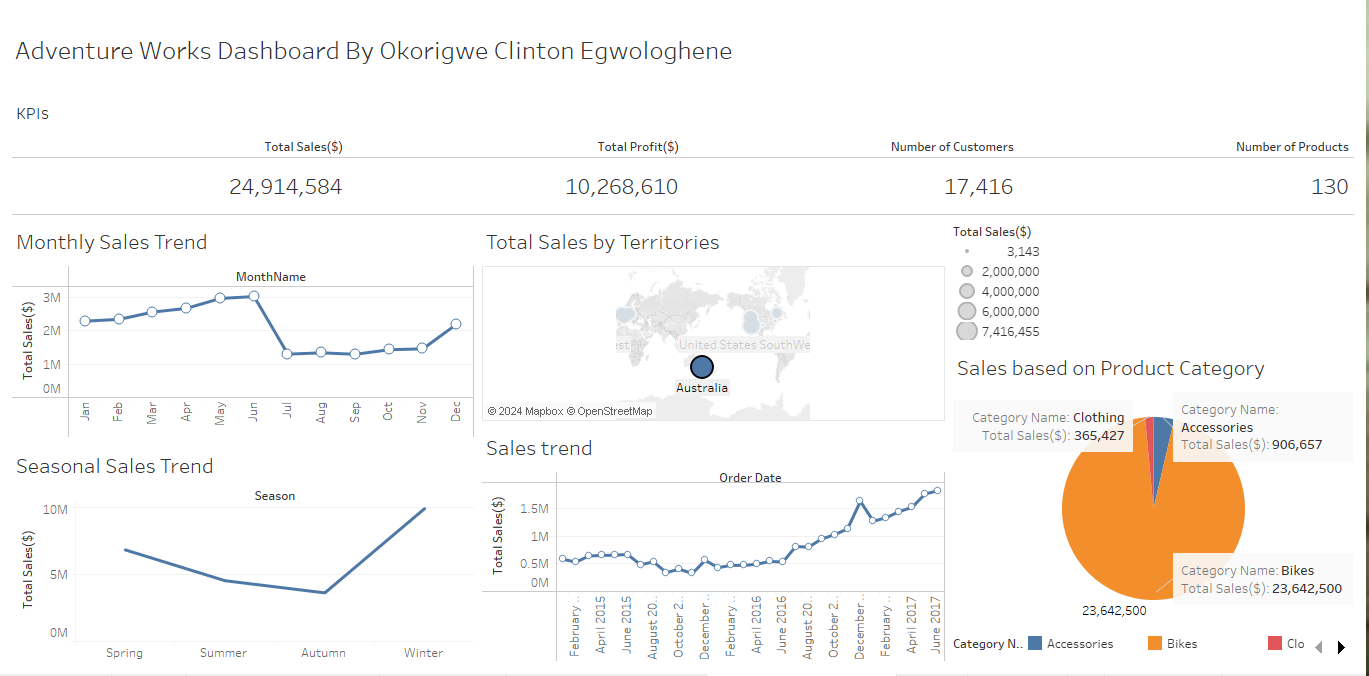

The page's visual inventory and layout, read from the dashboard file:
{"tool":"tableau","page":{"name":"Adventure works Dashboard","canvas":[1000,1000],"units":"permille","ordinal":0},"visuals":[{"type":"title","box":[5.9,11.8,988.3,108.2]},{"type":"worksheet","title":"KPIs","mark":"Automatic","box":[5.9,120,988.3,165.7]},{"type":"worksheet","title":"Monthly Sales Trend","mark":"Line","rows":["Total Sales($)","Total Sales($)"],"cols":["MonthName"],"box":[5.9,285.7,344.3,351.1]},{"type":"worksheet","title":"Total Sales by Territories","mark":"Automatic","box":[350.2,285.7,344.5,351.1]},{"type":"legend","title":"Total Sales by Territories","param":"[federated.119h48c18pn0mm115hyc91ffxgr6].[sum:Total Sales($):qk]","box":[694.7,285.7,299.4,186.7]},{"type":"worksheet","title":"Sales based on Product Category","mark":"Pie","box":[694.7,472.4,299.4,461]},{"type":"worksheet","title":"Seasonal Sales Trend","mark":"Line","rows":["Total Sales($)"],"cols":["Season"],"box":[5.9,636.8,344.3,351.3]},{"type":"worksheet","title":"Sales trend","mark":"Automatic","rows":["Total Sales($)","Total Sales($)"],"cols":["OrderDate"],"box":[350.2,636.8,344.5,351.3]},{"type":"legend","title":"Sales based on Product Category","param":"[federated.119h48c18pn0mm115hyc91ffxgr6].[none:CategoryName:nk]","box":[694.7,933.3,299.4,54.8]}]}

Visuals, with their boxes on the dashboard's canvas, which has no fixed pixel size, in thousandths of its width and height (x1, y1, x2, y2). These are canvas units, not pixel positions in the 1369x676 screenshot, which may show the page scaled, cropped or inside an application window:
title: box(6, 12, 994, 120)
"KPIs" worksheet: box(6, 120, 994, 286)
"Monthly Sales Trend" worksheet (Line marks): box(6, 286, 350, 637)
"Total Sales by Territories" worksheet: box(350, 286, 695, 637)
"Total Sales by Territories" legend: box(695, 286, 994, 472)
"Sales based on Product Category" worksheet (Pie marks): box(695, 472, 994, 933)
"Seasonal Sales Trend" worksheet (Line marks): box(6, 637, 350, 988)
"Sales trend" worksheet: box(350, 637, 695, 988)
"Sales based on Product Category" legend: box(695, 933, 994, 988)
